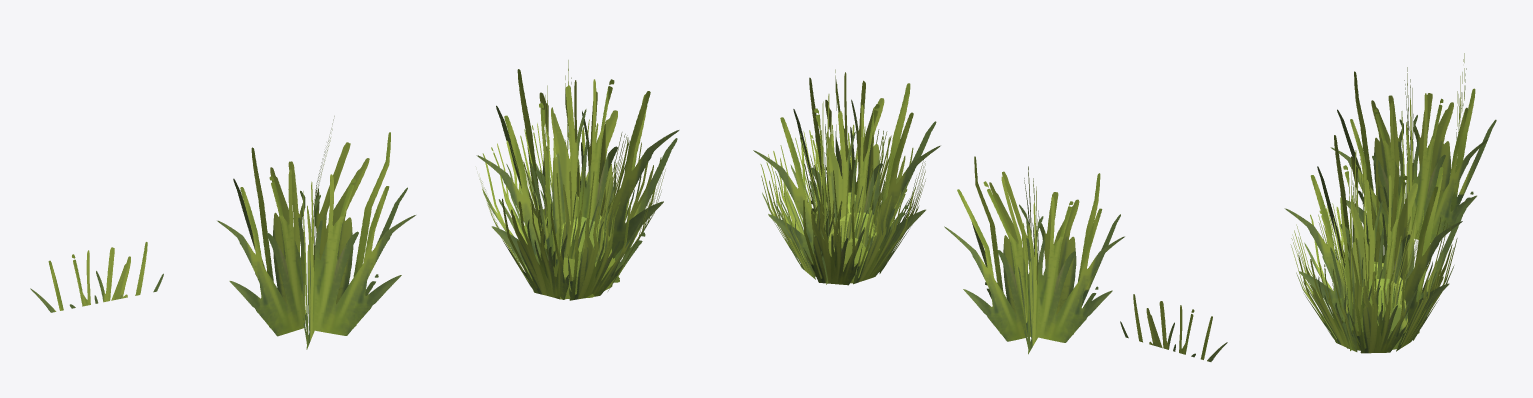
The model's file is grassTest.fbx.
3 views of the same model, side by side, from view 1: azimuth 30°, elevation 25°; view 2: azimuth 150°, elevation 25°; view 3: azimuth 270°, elevation 25° (orthographic). The views are drawn at different scales.
Parts seen in each view (by area): view 1: pPlane81, pPlane84, pCylinder14, pSphere9; view 2: pPlane81, pPlane84, pCylinder14, pSphere9; view 3: pPlane81, pPlane84, pSphere9, pCylinder14.
Part boxes in pixels (x1,y1,x2,y2): pPlane81: (476,60,679,300); pPlane84: (217,116,415,349); pCylinder14: (30,242,163,312); pSphere9: (527,196,615,299); pPlane81: (753,69,940,285); pPlane84: (944,156,1124,354); pCylinder14: (1120,294,1227,361); pSphere9: (806,192,879,283); pPlane81: (1284,135,1468,353); pPlane84: (1330,67,1496,244); pSphere9: (1336,261,1408,350); pCylinder14: (1456,53,1466,139).
Bounding box in the file's own units: 7.96 × 2.89 × 3.22.
